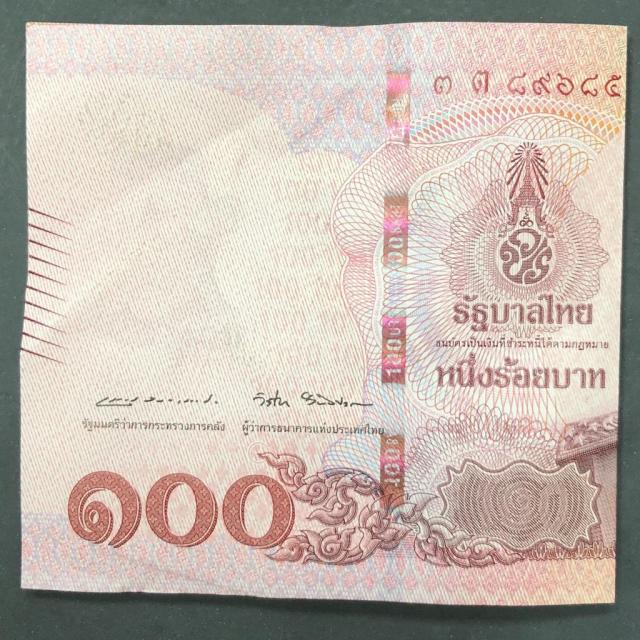THAI100: (19, 22, 631, 608)
